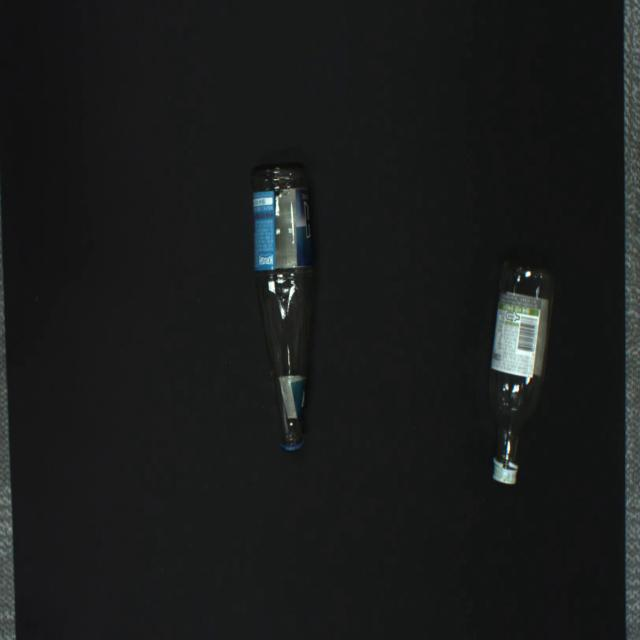beer-bottle: (250, 163, 315, 453)
soju-bottle: (487, 261, 556, 486)
